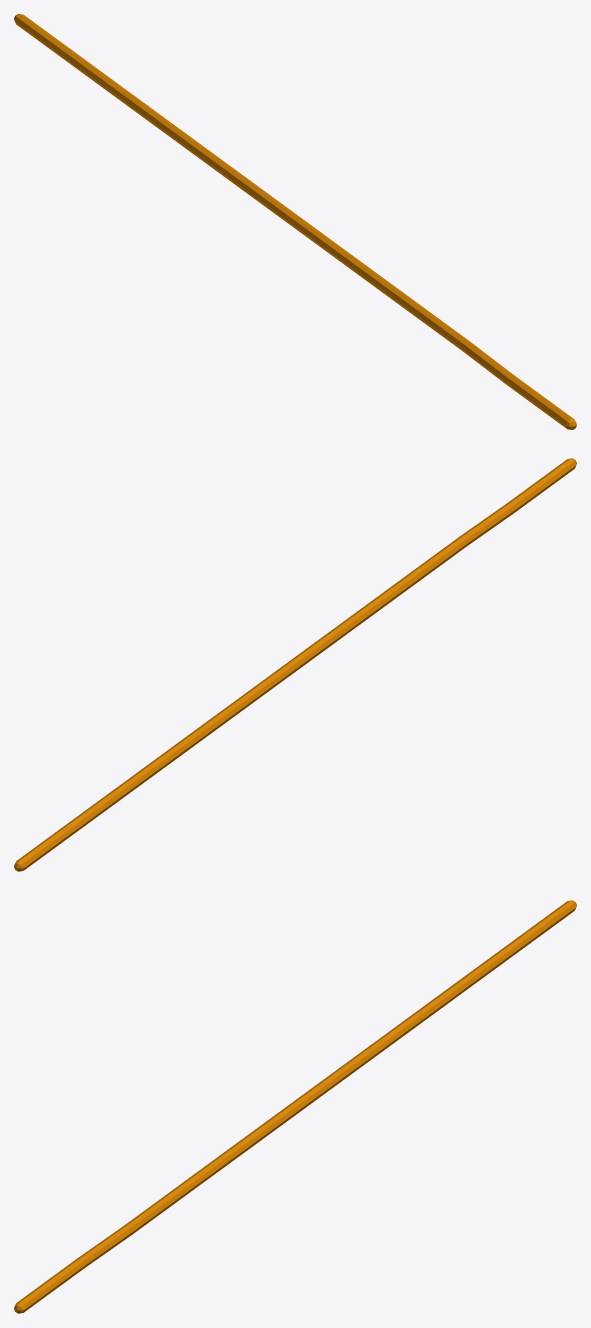
3 renders of one model, top to bottom at view 1: azimuth 30°, elevation 25°; view 2: azimuth 150°, elevation 25°; view 3: azimuth 330°, elevation 25°, orthographic.
Size of the model in its own units: 22.73 by 20 by 1817.
